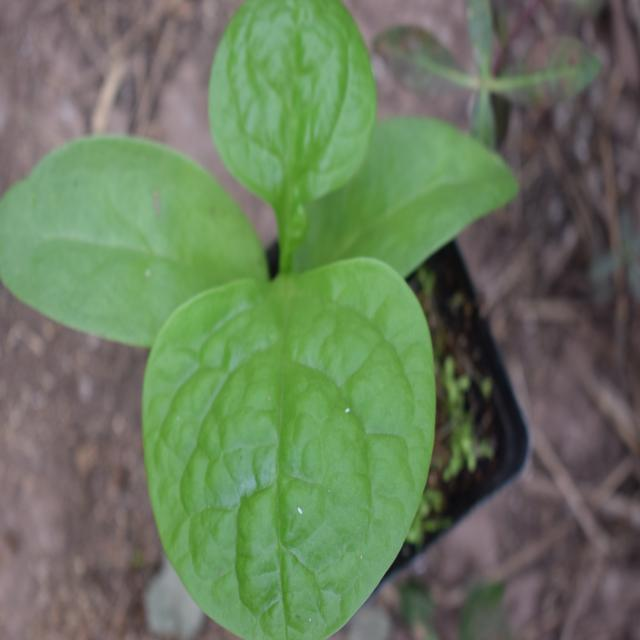Ceylon spinach: (7, 5, 439, 625)
